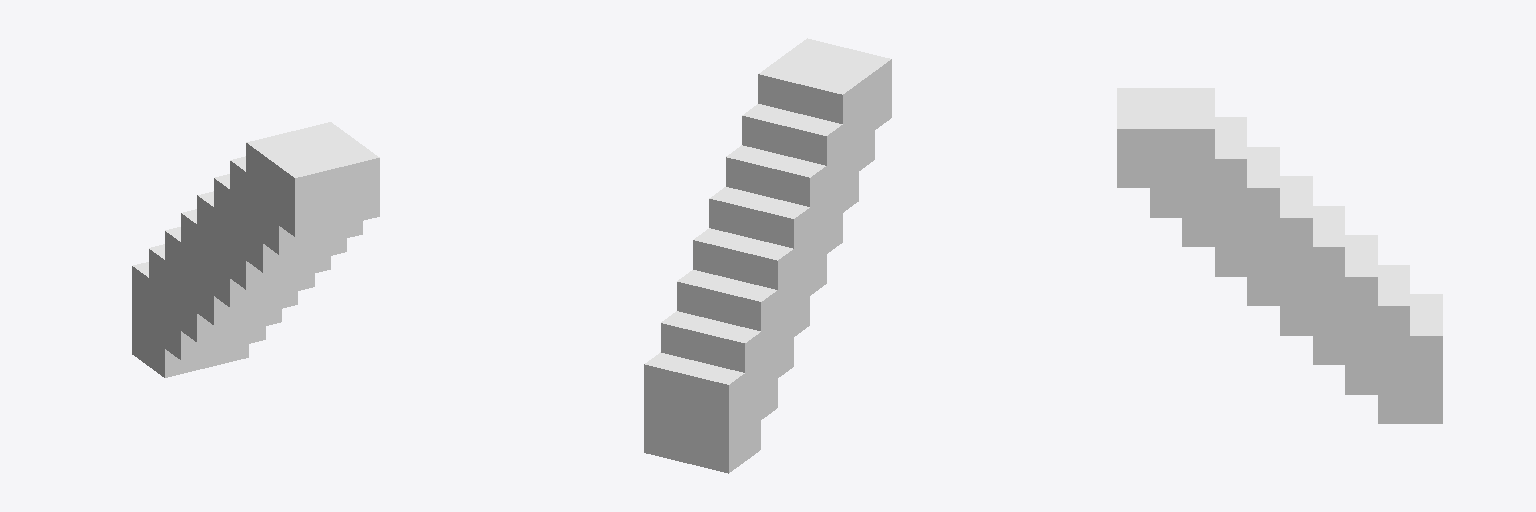
Rendered from Eruption-19.obj.
The picture shows the model from 3 angles: view 1: azimuth 30°, elevation 25°; view 2: azimuth 150°, elevation 25°; view 3: azimuth 270°, elevation 25°; orthographic projection.
Visible parts, largest first — view 1: object 1; view 2: object 1; view 3: object 1.
Part boxes in pixels (bbox=[...]): object 1: bbox=[132, 122, 379, 377]; object 1: bbox=[644, 38, 891, 473]; object 1: bbox=[1117, 88, 1442, 423].
Size of the model in its own units: 0.3 by 1 by 1.